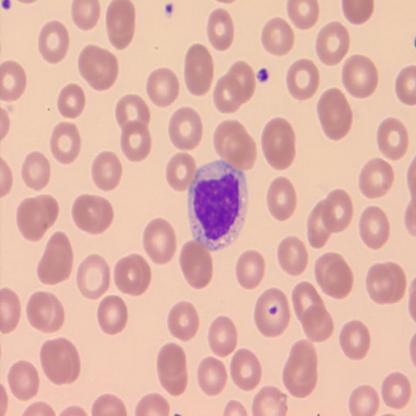Myelocyte: (189, 163, 248, 246)
